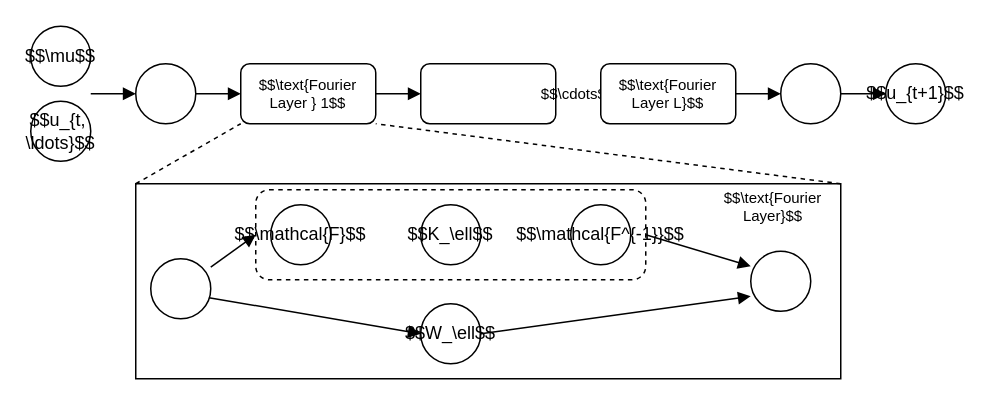
Some shapes in this 990 by 405 pixel diagram are drawn without their labels. The shapes that lost their labels are listed below. From the top down, each one's centre as x and y in pixels, then its label:
(165,93): $$P$$
(487,93): $$\text{Fourier Layer } 2$$
(810,93): $$Q$$
(180,288): $$a^{\ell}$$
(780,280): $$\sigma$$
